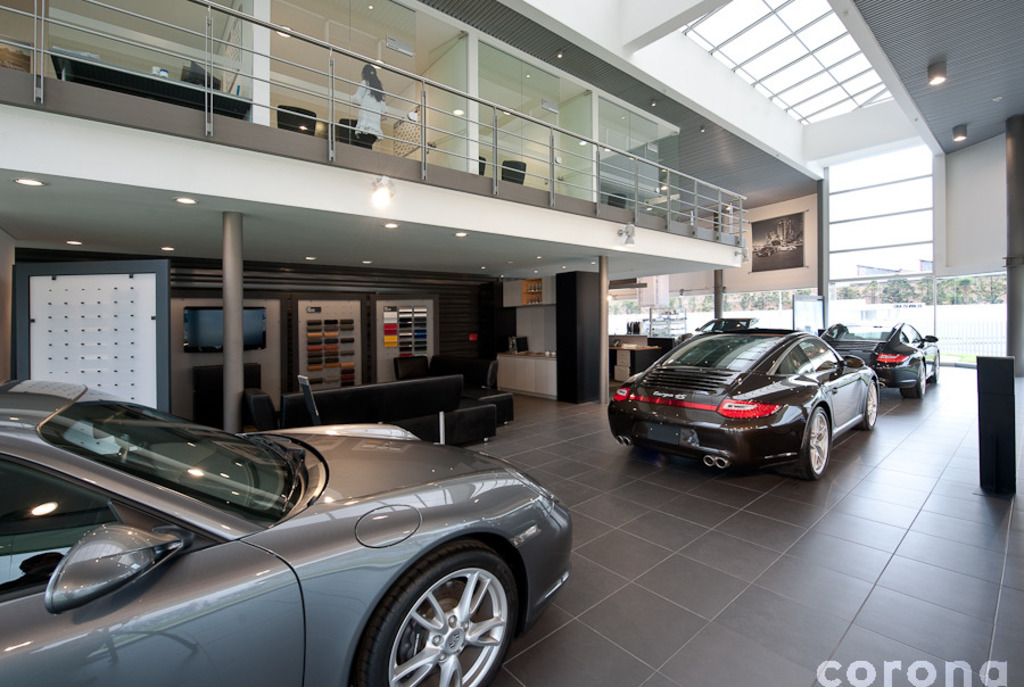Car: (0, 376, 575, 685), (601, 318, 884, 483), (820, 320, 939, 396)
